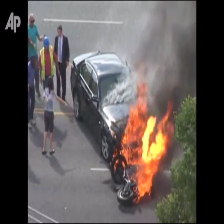fire_h: (120, 80, 175, 198)
fire_l: (109, 147, 118, 166), (112, 159, 119, 172), (121, 160, 128, 169)
